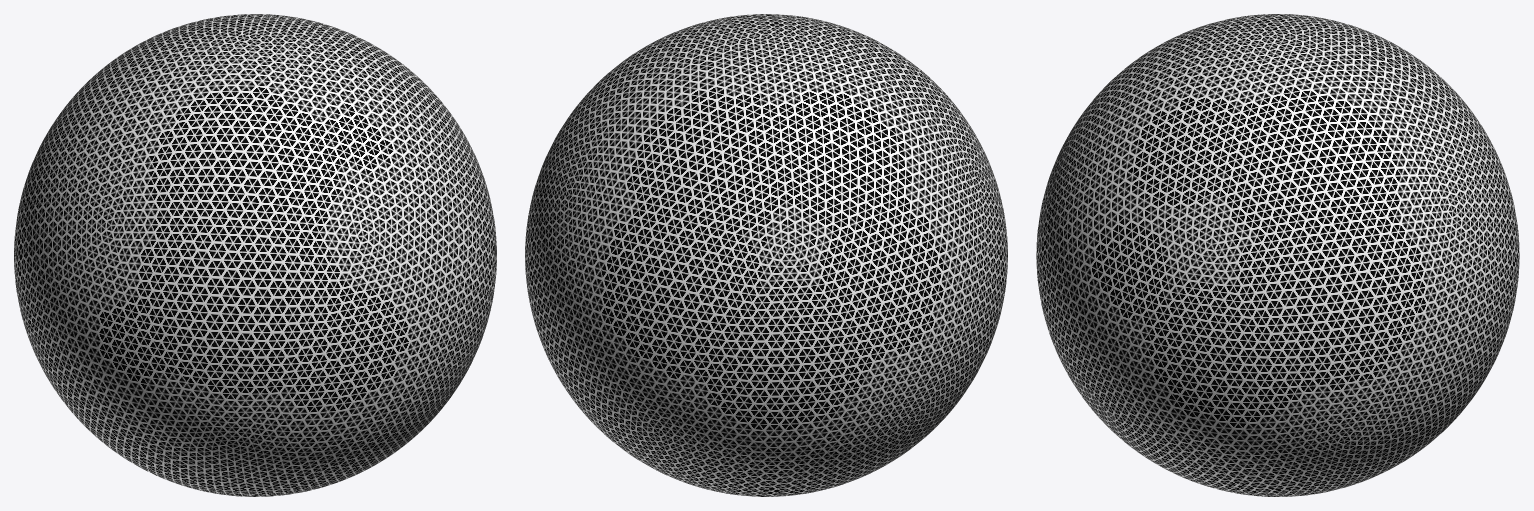
File: hexa.gltf.glb
The picture shows the model from 3 angles, left to right: view 1: azimuth 30°, elevation 25°; view 2: azimuth 150°, elevation 25°; view 3: azimuth 270°, elevation 25°; orthographic projection.
Parts seen in each view (by area): view 1: GD_mesh; view 2: GD_mesh; view 3: GD_mesh.
Boxes of the visible parts, x1=… form: GD_mesh: x1=14, y1=14, x2=496, y2=496; GD_mesh: x1=525, y1=14, x2=1007, y2=496; GD_mesh: x1=1036, y1=14, x2=1519, y2=496.
Size of the model in its own units: 2 by 2 by 2.
1 material, 1 textured.
